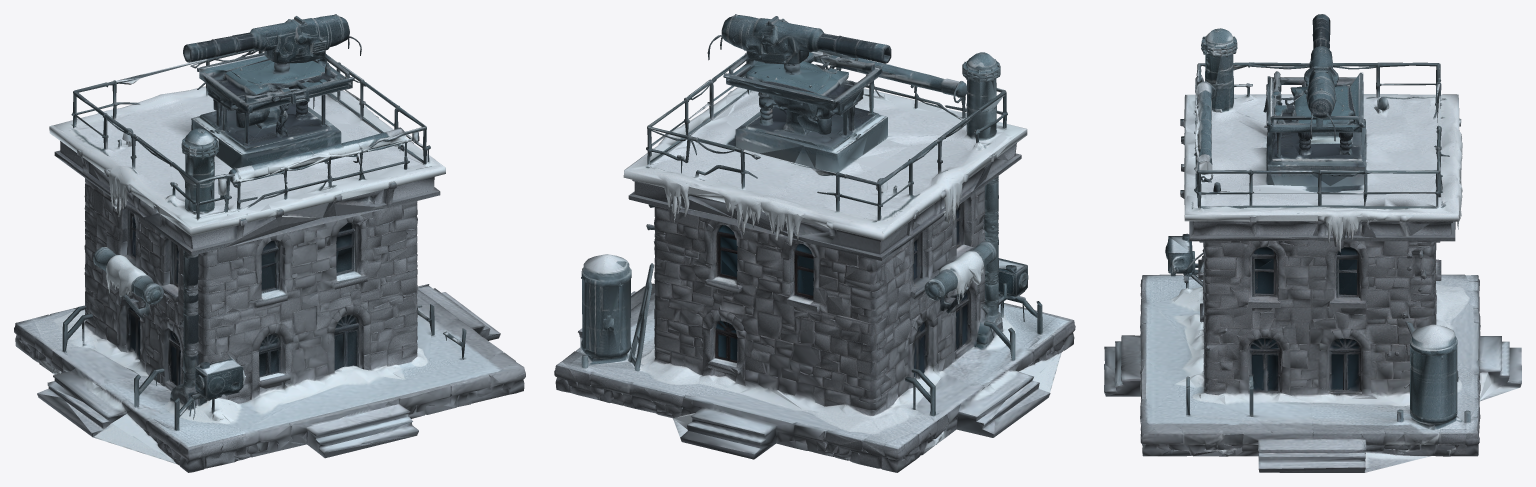
The model's file is torre-gelo-tdfende__01a163bd.glb.
The picture shows the model from 3 angles, left to right: view 1: azimuth 30°, elevation 25°; view 2: azimuth 150°, elevation 25°; view 3: azimuth 270°, elevation 25°; orthographic projection. The views are drawn at different scales.
Parts seen in each view (by area): view 1: torre-gelo-tdfende__01a163bd; view 2: torre-gelo-tdfende__01a163bd; view 3: torre-gelo-tdfende__01a163bd.
Boxes of the visible parts, x1,y1,x2,y2 form: torre-gelo-tdfende__01a163bd: (14,14,525,472); torre-gelo-tdfende__01a163bd: (554,14,1075,472); torre-gelo-tdfende__01a163bd: (1104,14,1521,472).
Size of the model in its own units: 15.2 by 12 by 13.88.
Materials: 1 (1 with a texture image).
